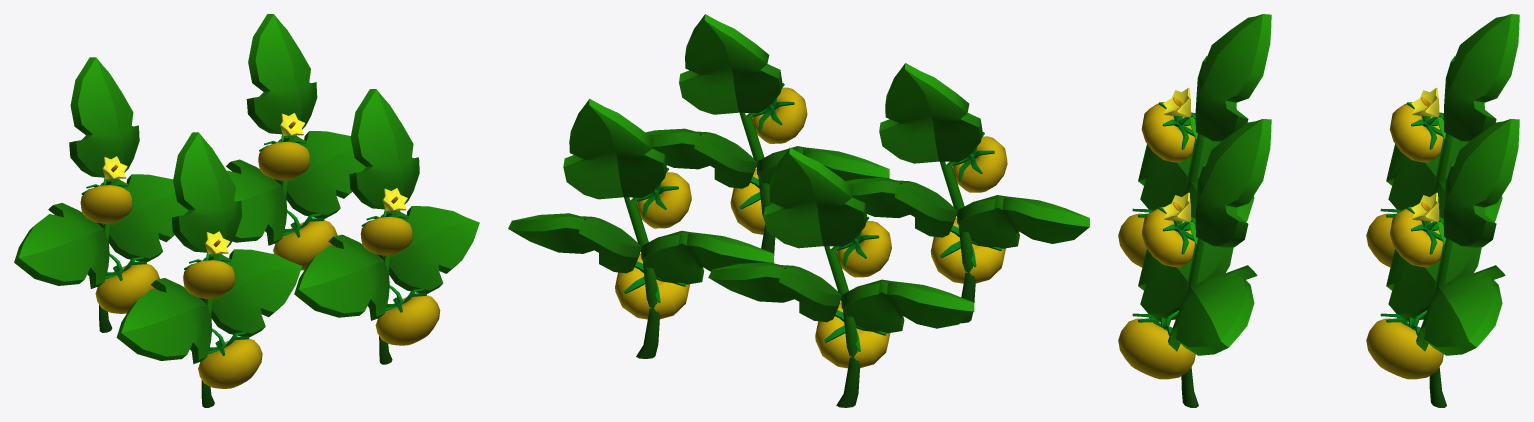
File: Farm_Crop_Tomato_Step_02.fbx
The picture shows the model from 3 angles, left to right: view 1: azimuth 30°, elevation 25°; view 2: azimuth 150°, elevation 25°; view 3: azimuth 270°, elevation 25°; orthographic projection. The views are drawn at different scales.
Parts seen in each view (by area): view 1: Farm_Crop_Tomato_Step_02; view 2: Farm_Crop_Tomato_Step_02; view 3: Farm_Crop_Tomato_Step_02.
Part boxes in pixels (<box>): Farm_Crop_Tomato_Step_02: <box>14,14,479,407</box>; Farm_Crop_Tomato_Step_02: <box>508,14,1089,407</box>; Farm_Crop_Tomato_Step_02: <box>1118,14,1519,407</box>.
Size of the model in its own units: 218 by 132 by 162.
